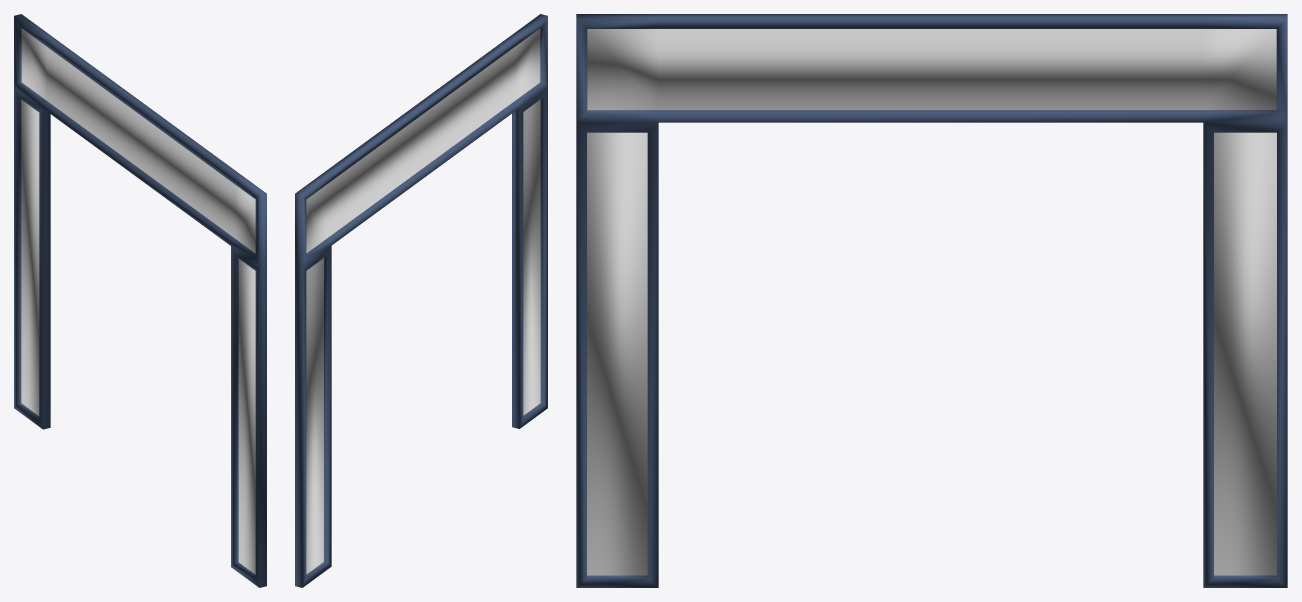
Rendered from SW_corridor__R_lobby_R-aula-Karmi.FBX.
3 renders of one model, left to right at view 1: azimuth 30°, elevation 25°; view 2: azimuth 150°, elevation 25°; view 3: azimuth 270°, elevation 25°, orthographic. The views are drawn at different scales.
Visible parts, largest first — view 1: SW_corridor__R_lobby_R-aula-Karmi; view 2: SW_corridor__R_lobby_R-aula-Karmi; view 3: SW_corridor__R_lobby_R-aula-Karmi.
Part boxes in pixels (bbox=[...]): SW_corridor__R_lobby_R-aula-Karmi: bbox=[14, 14, 266, 587]; SW_corridor__R_lobby_R-aula-Karmi: bbox=[295, 14, 547, 587]; SW_corridor__R_lobby_R-aula-Karmi: bbox=[576, 14, 1287, 587].
Bounding box in the file's own units: 5 × 283 × 250.
